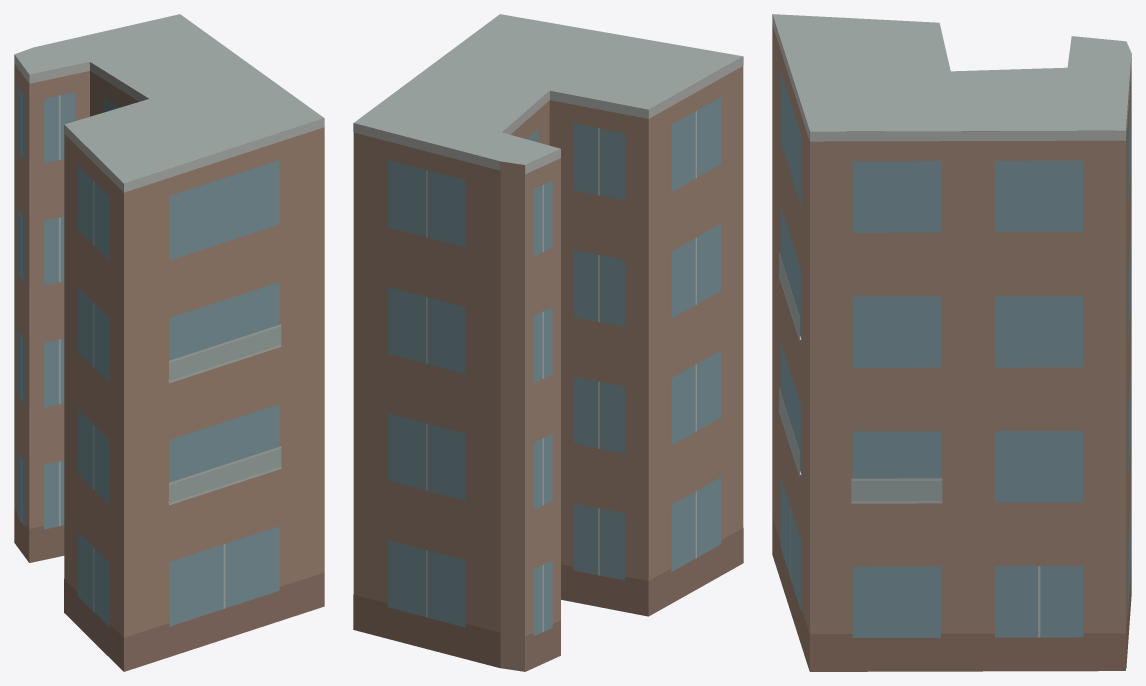
The model's file is survey-upis-32472306.glb.
3 renders of one model, left to right at view 1: azimuth 30°, elevation 25°; view 2: azimuth 150°, elevation 25°; view 3: azimuth 270°, elevation 25°, orthographic. The views are drawn at different scales.
Parts seen in each view (by area): view 1: survey-upis-32472306.tmp; view 2: survey-upis-32472306.tmp; view 3: survey-upis-32472306.tmp.
Part boxes in pixels (x1,y1,x2,y2): survey-upis-32472306.tmp: (14,14,324,671); survey-upis-32472306.tmp: (353,14,743,671); survey-upis-32472306.tmp: (772,14,1131,671).
Size of the model in its own units: 6.2 by 13.2 by 7.96.
